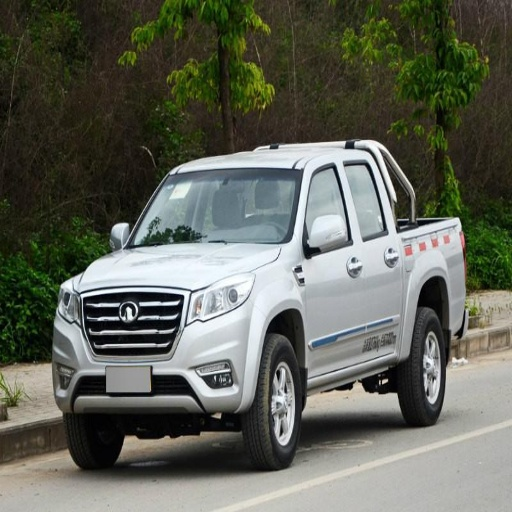front_bumper: (53, 288, 265, 413)
front_glass: (125, 168, 301, 248)
front_left_door: (303, 162, 366, 373)
trunk: (407, 223, 464, 337)
